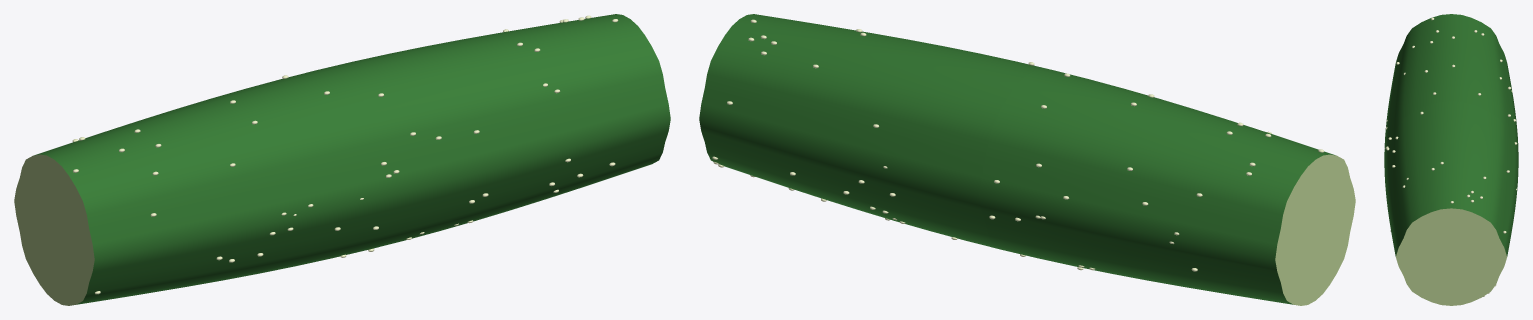
Rendered from cucumber.glb.
3 views of the same model, side by side, from view 1: azimuth 30°, elevation 25°; view 2: azimuth 150°, elevation 25°; view 3: azimuth 270°, elevation 25° (orthographic). The views are drawn at different scales.
Visible parts, largest first — view 1: cucumber_halfA_geometry, cucumber_halfB_geometry; view 2: cucumber_halfA_geometry, cucumber_halfB_geometry; view 3: cucumber_halfB_geometry, cucumber_halfA_geometry, cucumber_whole_geometry.
Boxes of the visible parts, box(x1,y1,x2,y2) form: cucumber_halfA_geometry: box(14, 68, 390, 305); cucumber_halfB_geometry: box(318, 14, 670, 251); cucumber_halfA_geometry: box(979, 68, 1355, 305); cucumber_halfB_geometry: box(699, 14, 1051, 249); cucumber_halfB_geometry: box(1384, 101, 1518, 305); cucumber_halfA_geometry: box(1384, 14, 1518, 159); cucumber_whole_geometry: box(1384, 17, 1509, 298).
Bounding box in the file's own units: 0.78 × 0.22 × 0.2277.
